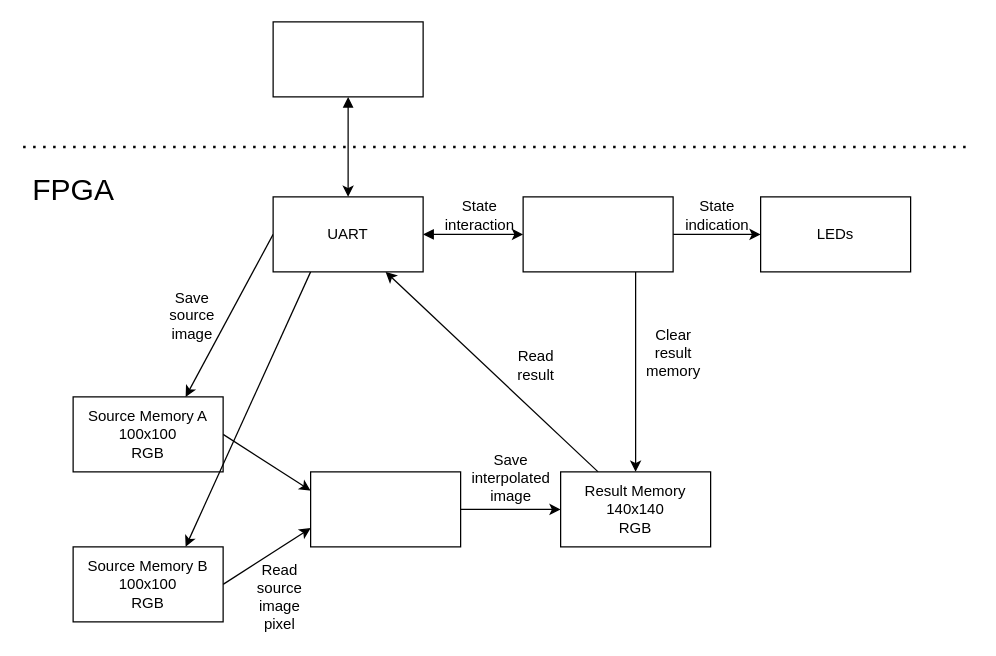
Image size: 996x656. Some labels were removed from this diagram. Each missing label, with the box of its shape:
FSM: (522, 196, 673, 272)
Interpolation Processor: (309, 471, 461, 547)
PC: (272, 21, 423, 97)
